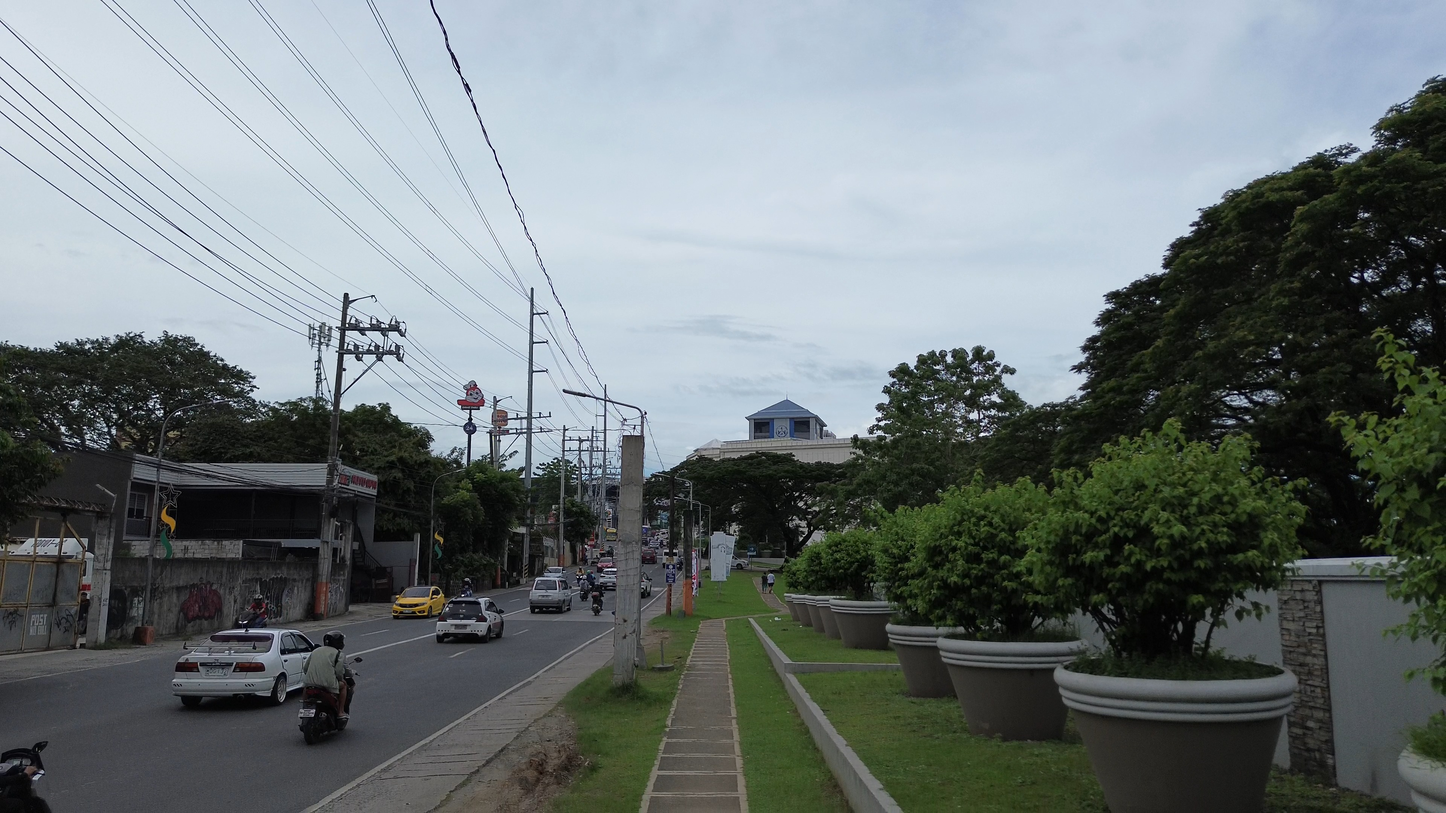motorcycle: (0, 741, 50, 813), (298, 687, 347, 744), (235, 606, 269, 628), (591, 587, 603, 616)
vehicle: (172, 629, 316, 707), (0, 741, 50, 813), (436, 597, 503, 642), (392, 586, 445, 618), (529, 576, 572, 613), (598, 567, 617, 590), (590, 586, 603, 614), (596, 556, 615, 573), (640, 573, 652, 597), (641, 547, 657, 564), (542, 566, 566, 577), (732, 557, 749, 569)
